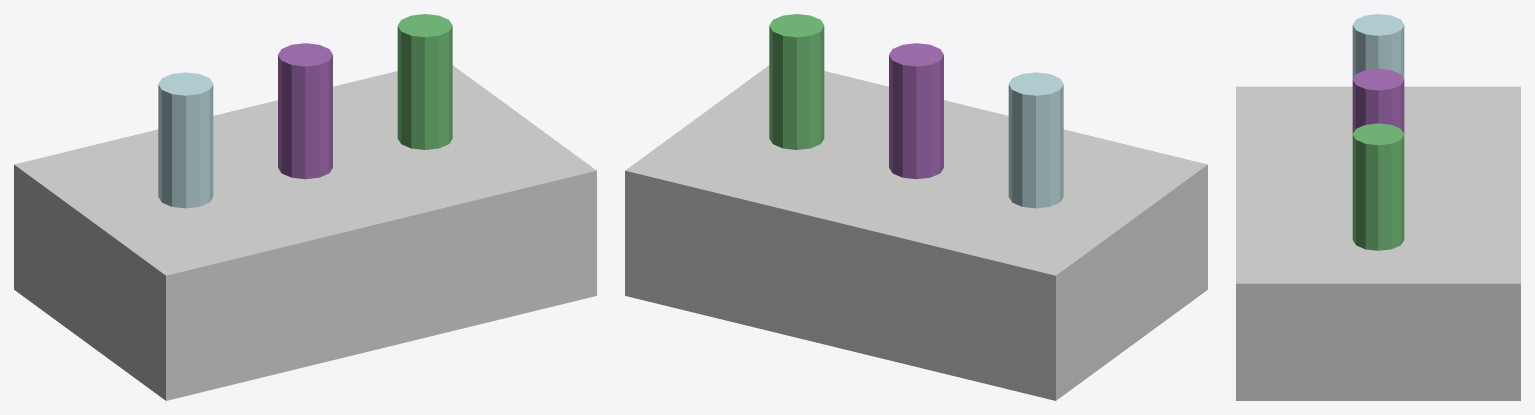
The model's file is sm_product_chemistry_set.glb.
The picture shows the model from 3 angles, left to right: view 1: azimuth 30°, elevation 25°; view 2: azimuth 150°, elevation 25°; view 3: azimuth 270°, elevation 25°; orthographic projection. The views are drawn at different scales.
Visible parts, largest first — view 1: chemistry_set_0, chemistry_set_1, chemistry_set_3, chemistry_set_2; view 2: chemistry_set_0, chemistry_set_1, chemistry_set_3, chemistry_set_2; view 3: chemistry_set_0, chemistry_set_3, chemistry_set_2, chemistry_set_1.
Part boxes in pixels (box(x1,y1,x2,y2)): chemistry_set_0: box(14, 65, 596, 400); chemistry_set_1: box(158, 72, 213, 208); chemistry_set_3: box(397, 14, 452, 149); chemistry_set_2: box(278, 43, 332, 179); chemistry_set_0: box(625, 65, 1207, 400); chemistry_set_1: box(1008, 72, 1063, 208); chemistry_set_3: box(769, 14, 824, 149); chemistry_set_2: box(889, 43, 943, 179); chemistry_set_0: box(1236, 86, 1520, 400); chemistry_set_3: box(1352, 123, 1404, 250); chemistry_set_2: box(1352, 68, 1404, 133); chemistry_set_1: box(1352, 14, 1404, 78).
Size of what is drawn, in the model's own units: 0.36 by 0.19 by 0.22.
